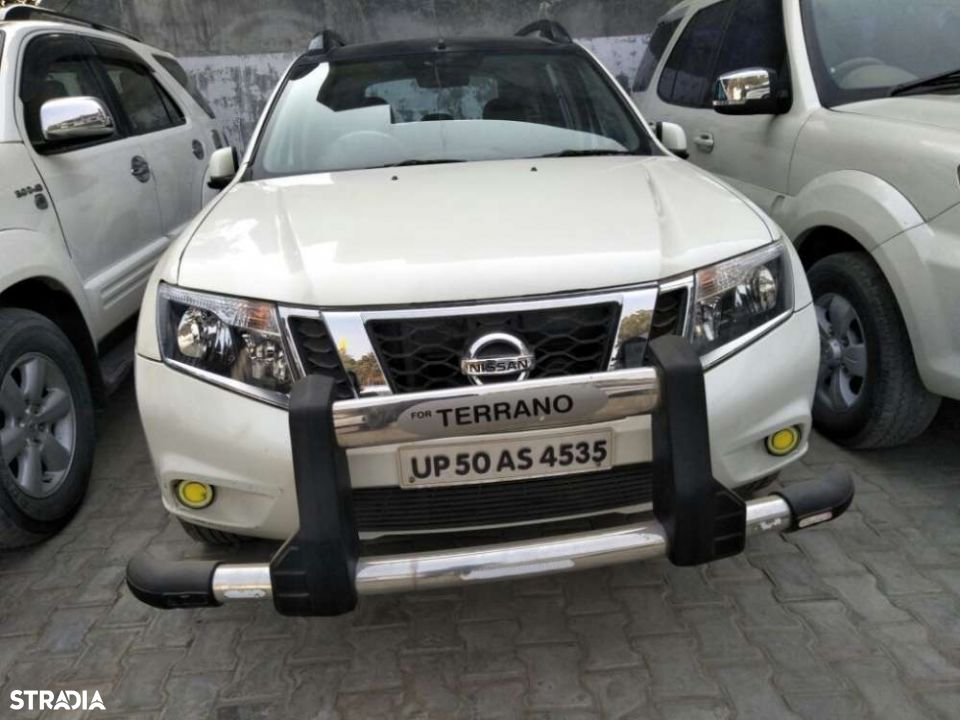number_plate: (390, 430, 634, 489)
